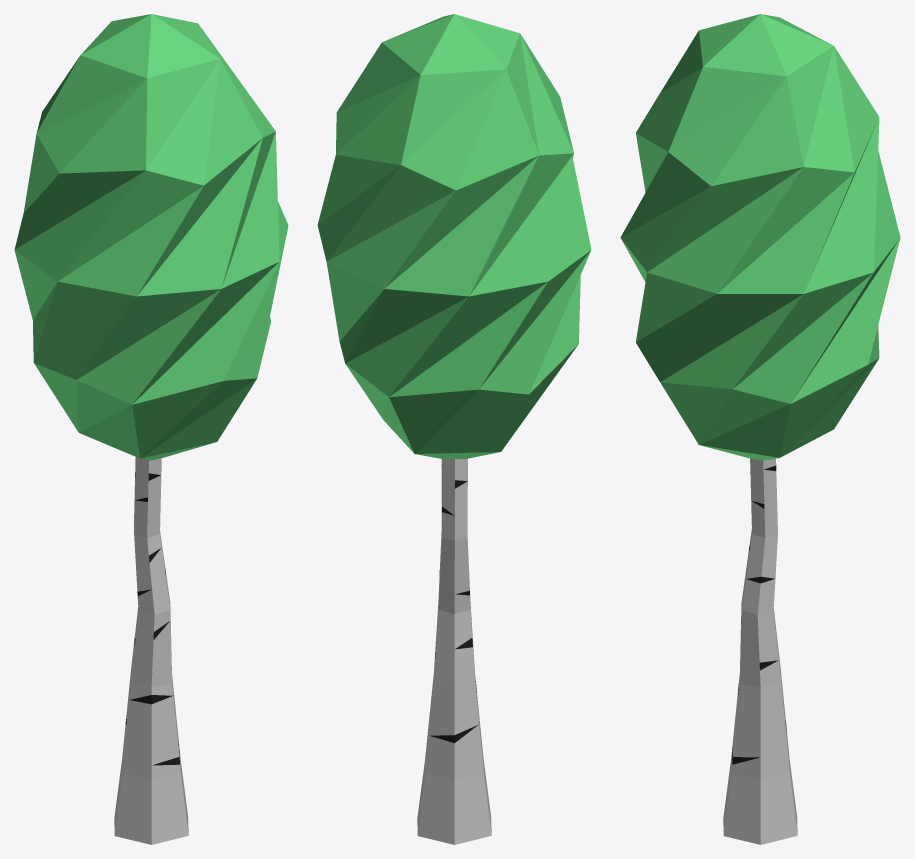
File: birch_tree.fbx
The picture shows the model from 3 angles, left to right: view 1: azimuth 30°, elevation 25°; view 2: azimuth 150°, elevation 25°; view 3: azimuth 270°, elevation 25°; orthographic projection.
Parts seen in each view (by area): view 1: birch_tree; view 2: birch_tree; view 3: birch_tree.
Part boxes in pixels (x1,y1,x2,y2): birch_tree: [14, 14, 288, 844]; birch_tree: [317, 14, 591, 844]; birch_tree: [620, 14, 900, 844].
Bounding box in the file's own units: 1.52 × 5.12 × 1.6.
